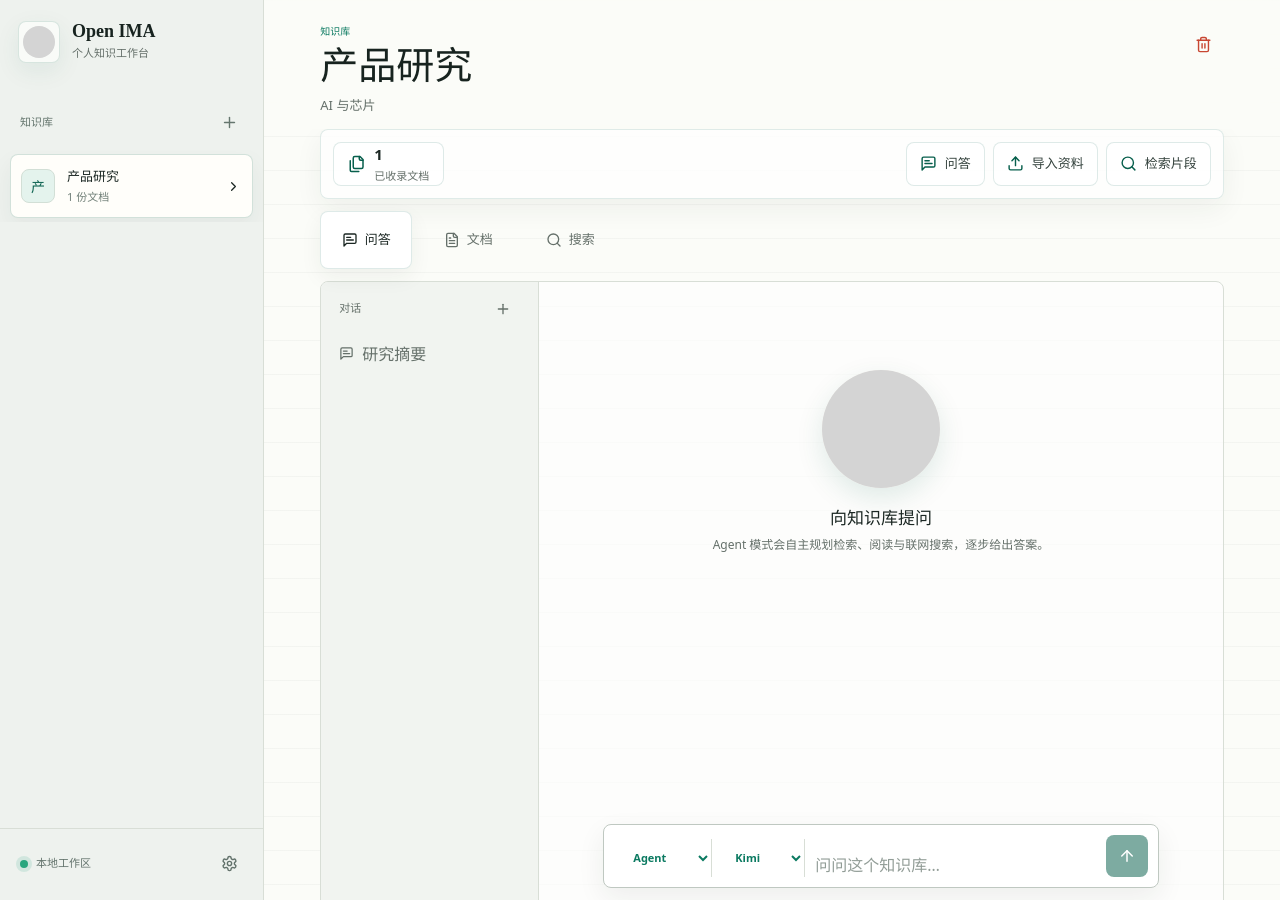
App › renders assistant Markdown instead of showing syntax markers
Click the button "研究摘要" at (430,354), box [330,332,529,376]
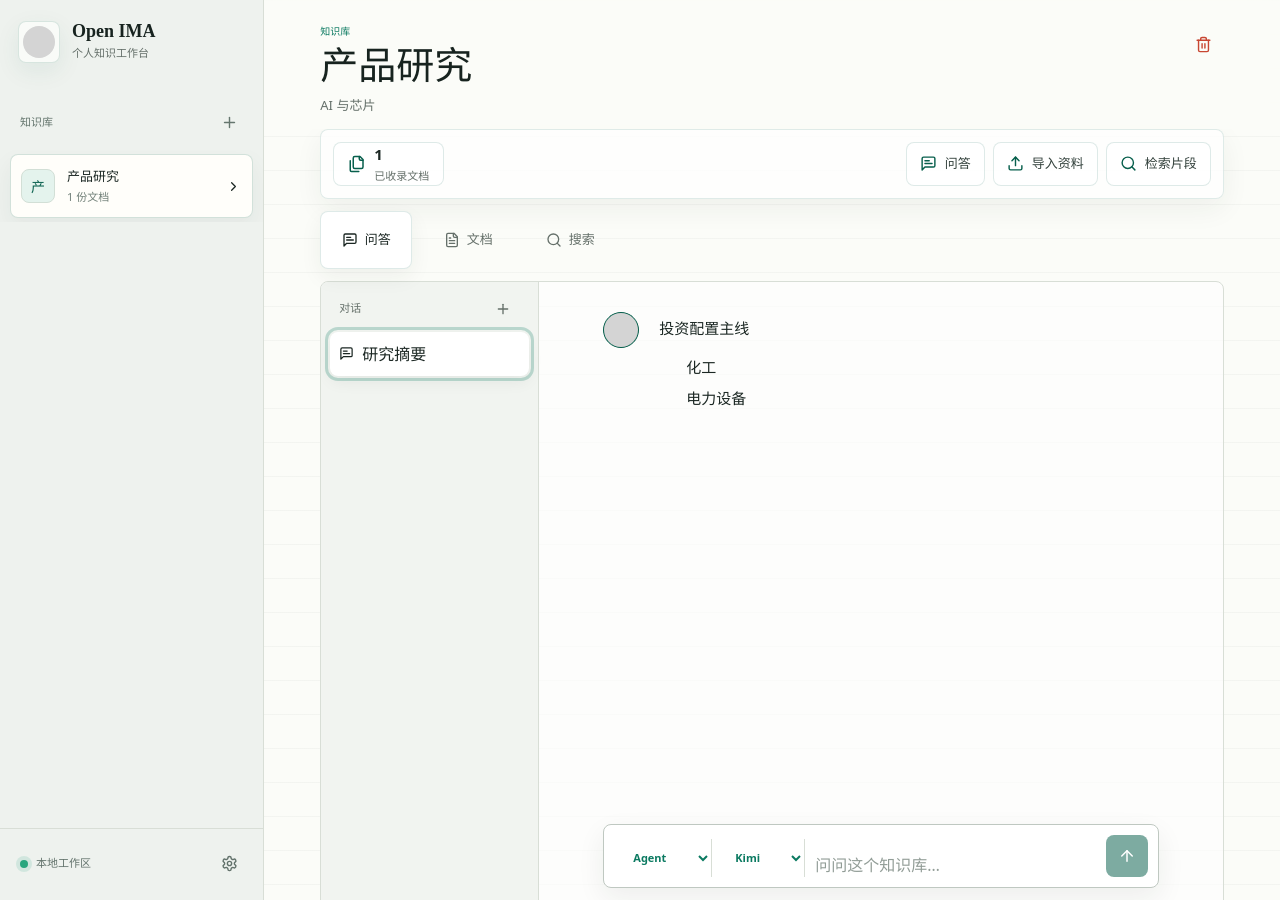
Now the text "投资配置主线" is shown, box [659,321,749,337]
Now the list is shown, box [686,360,746,407]
